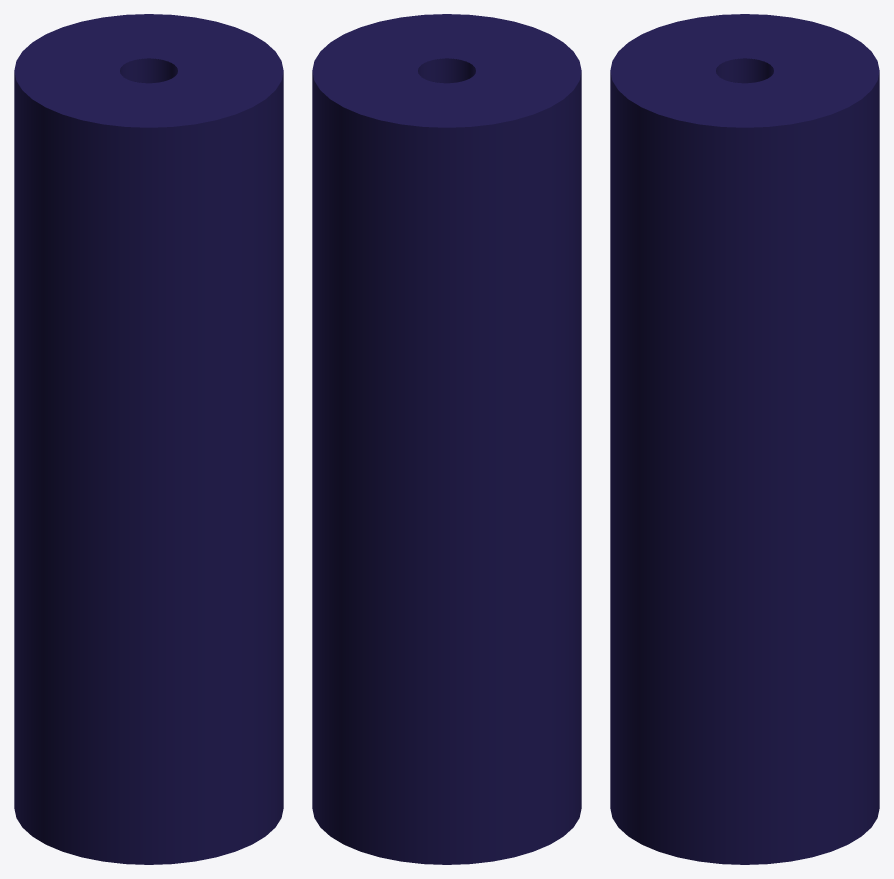
Rendered from NEW ridservices.fbx.
3 views of the same model, side by side, from view 1: azimuth 30°, elevation 25°; view 2: azimuth 150°, elevation 25°; view 3: azimuth 270°, elevation 25° (orthographic).
Visible parts, largest first — view 1: Cylinder012, Cylinder Top; view 2: Cylinder012, Cylinder Top; view 3: Cylinder012, Cylinder Top.
Part boxes in pixels (x1=…): Cylinder012: x1=14, y1=14, x2=283, y2=864; Cylinder Top: x1=120, y1=58, x2=177, y2=83; Cylinder012: x1=312, y1=14, x2=581, y2=864; Cylinder Top: x1=418, y1=58, x2=475, y2=83; Cylinder012: x1=610, y1=14, x2=879, y2=864; Cylinder Top: x1=716, y1=58, x2=773, y2=83.
Size of the model in its own units: 90574 by 273544 by 90574.
